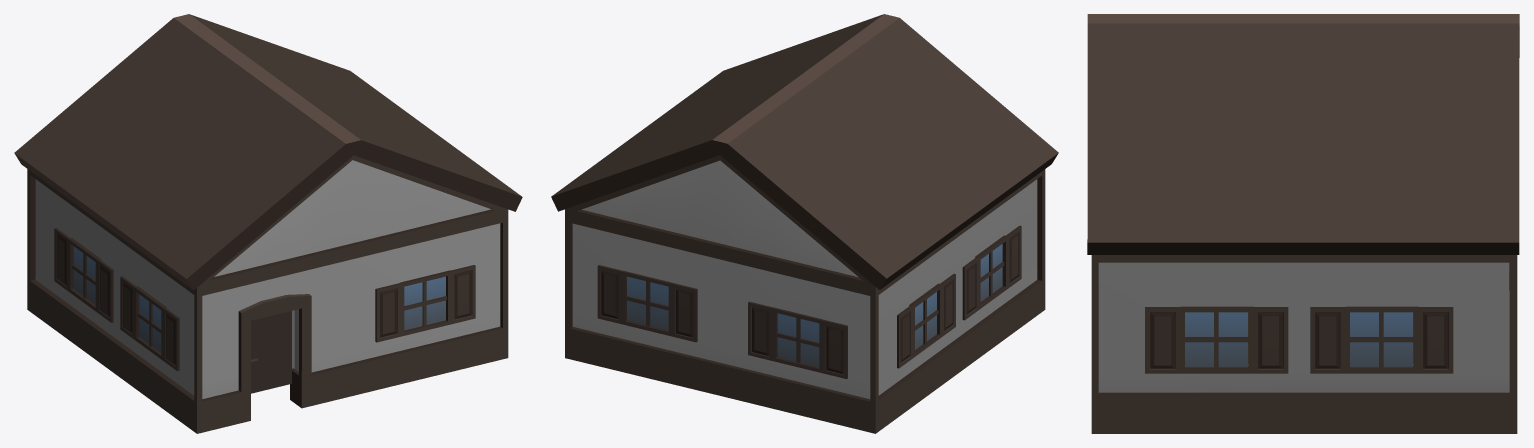
File: Residential_OldCottage_alt01.glb
3 views of the same model, side by side, from view 1: azimuth 30°, elevation 25°; view 2: azimuth 150°, elevation 25°; view 3: azimuth 270°, elevation 25° (orthographic). The views are drawn at different scales.
Visible parts, largest first — view 1: base.124, windowRefl.096; view 2: base.124, windowRefl.096; view 3: base.124, windowRefl.096.
Part boxes in pixels (box(x1,y1,x2,y2)): base.124: box(14, 14, 522, 433); windowRefl.096: box(73, 246, 445, 352); base.124: box(551, 14, 1058, 433); windowRefl.096: box(627, 244, 1002, 366); base.124: box(1087, 14, 1519, 433); windowRefl.096: box(1185, 312, 1412, 367).
Size of the model in its own units: 9.71 by 7.05 by 8.63.
